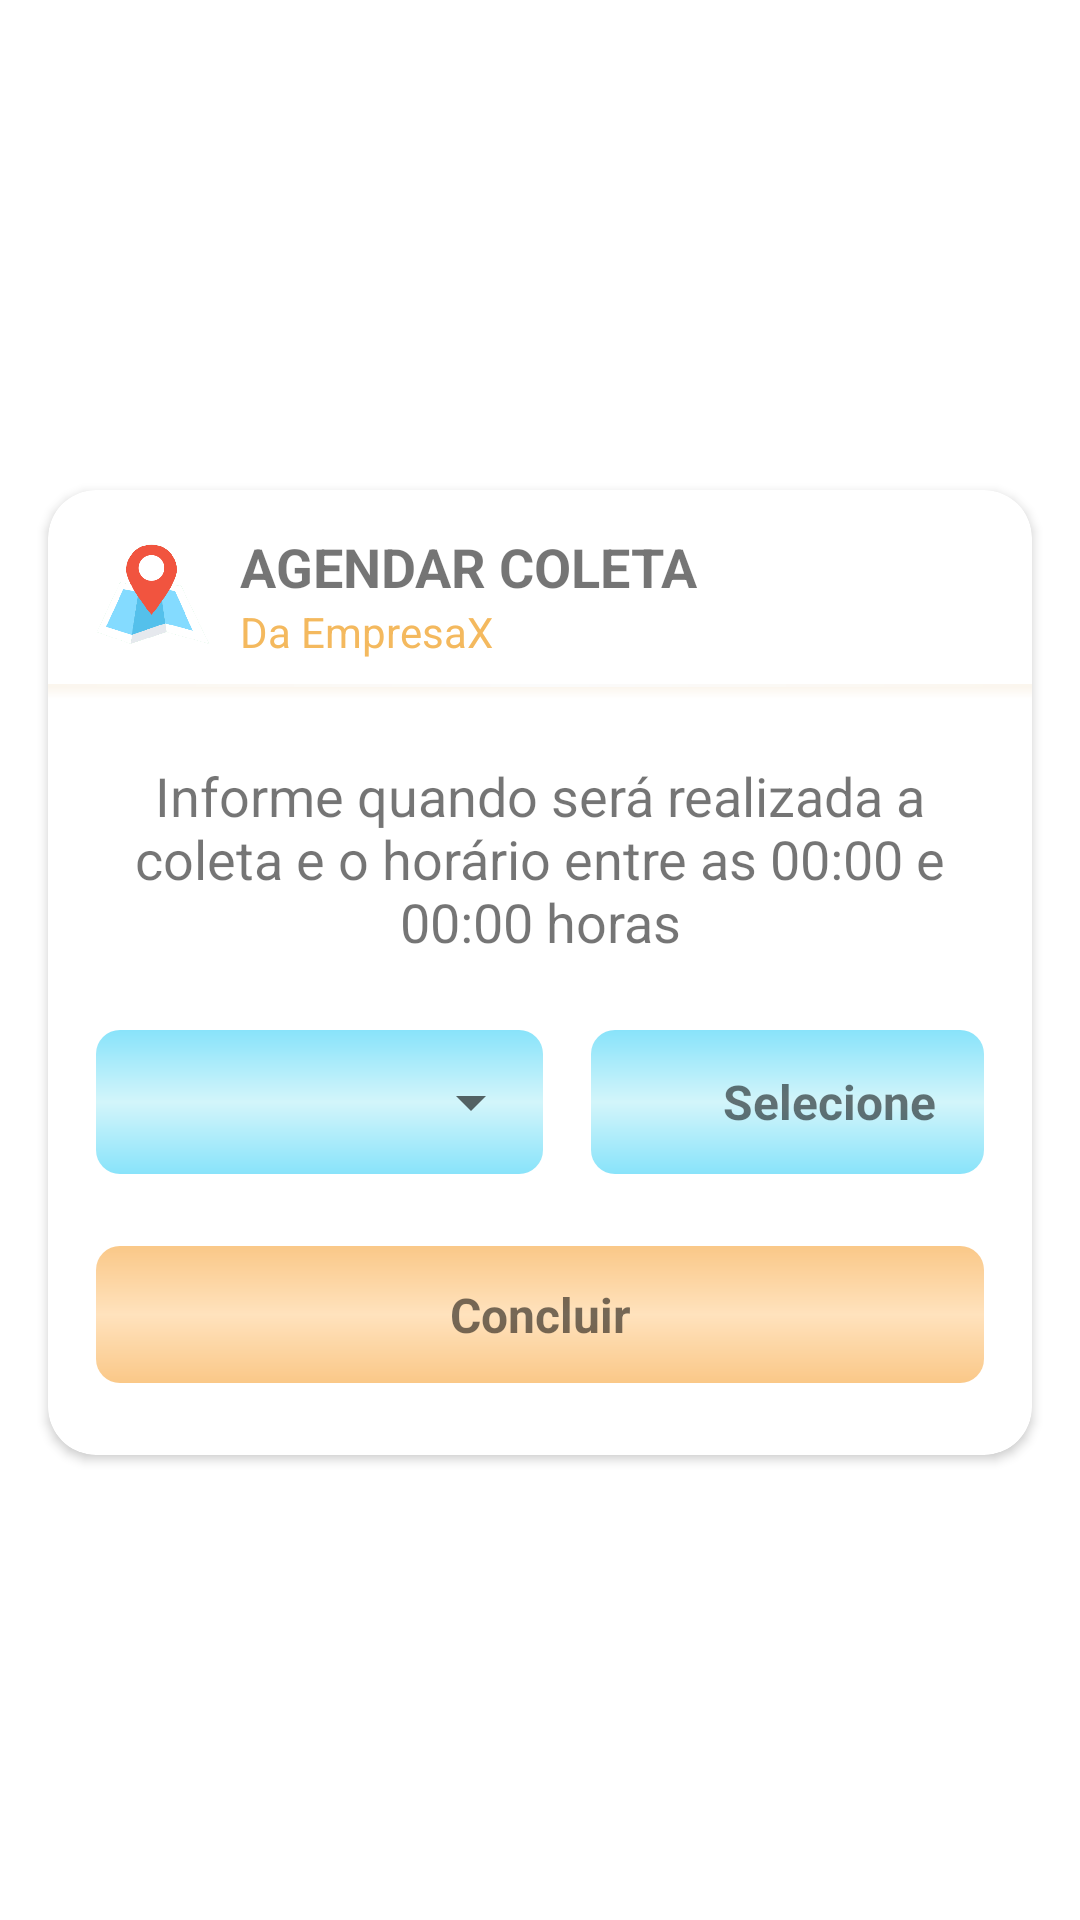

Icon click points for this 1080 x 1920 phone screenshot, format [x,y]:
map: [149,594]
